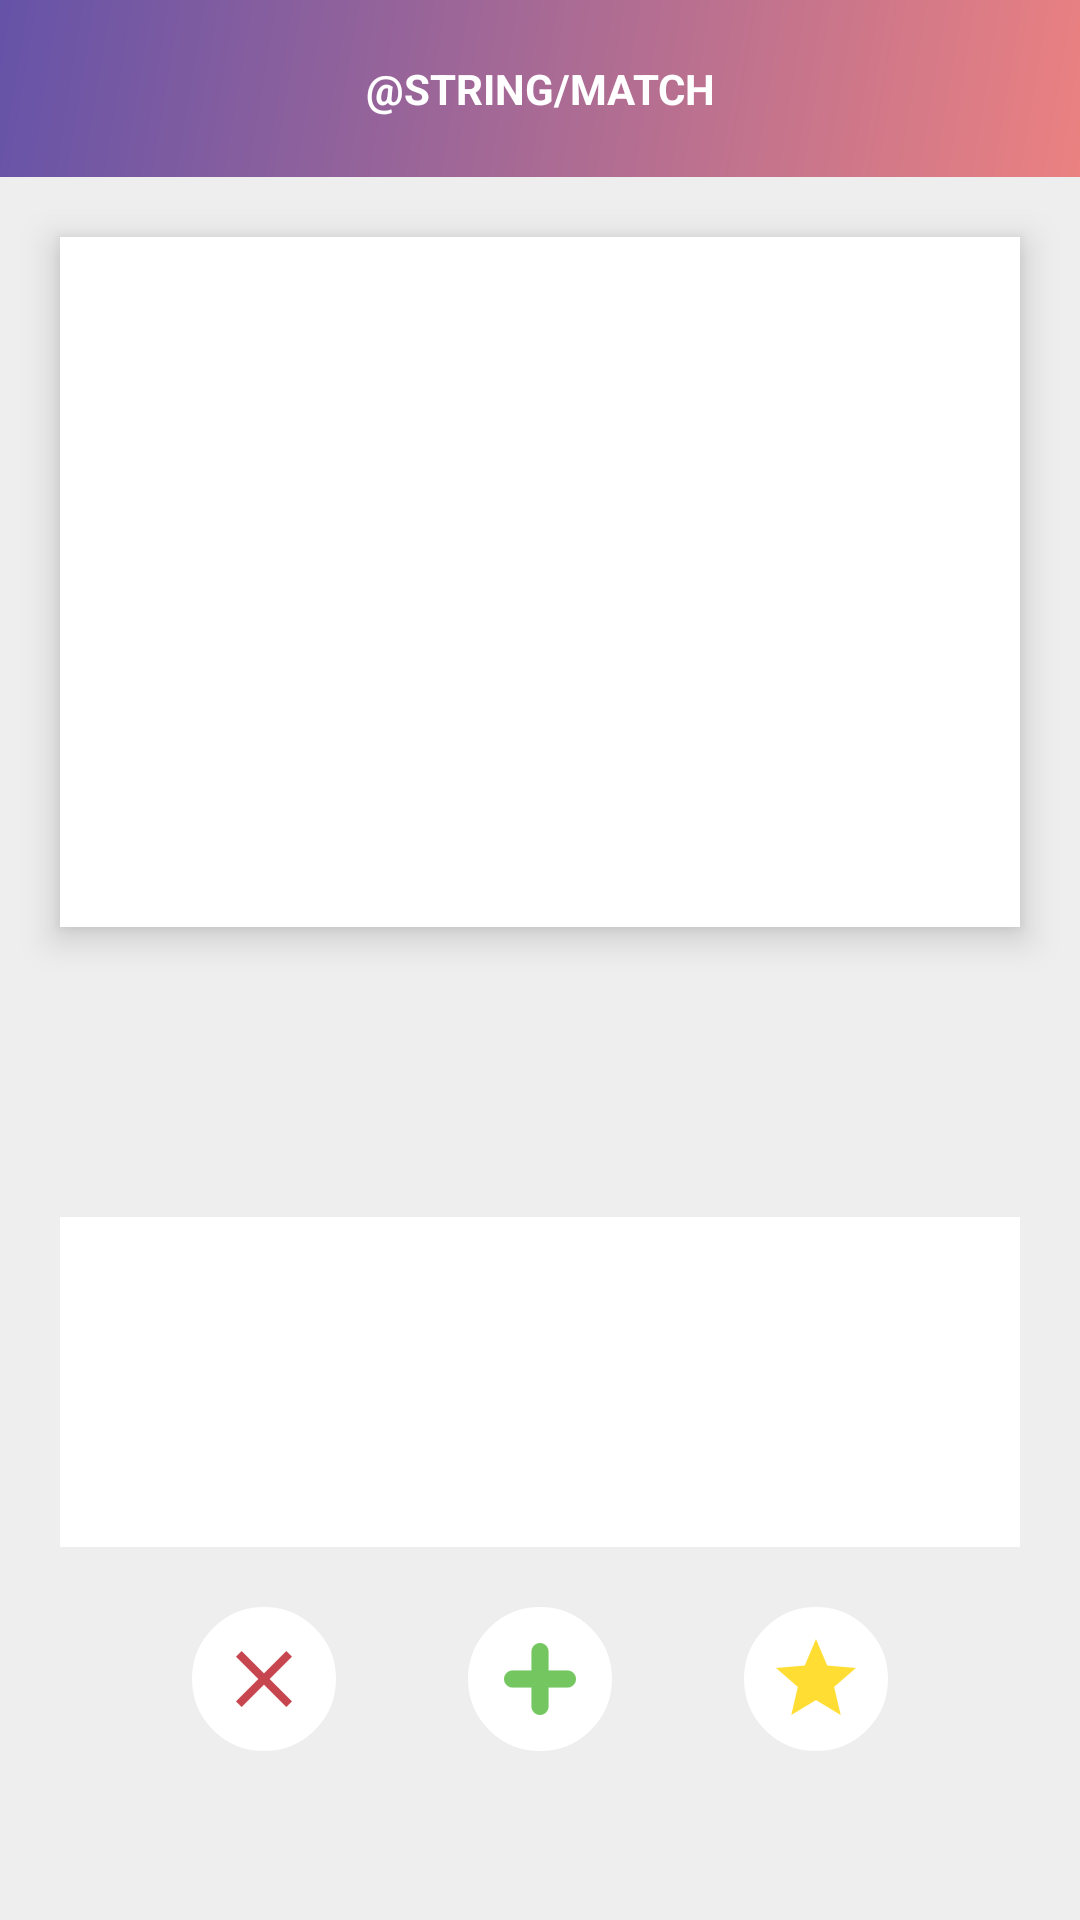

Locate icon controls on the screen. Image size 1080×1920, boxes as (x1, y1, x2, y2).
add: (468, 1607, 612, 1751)
favourite: (744, 1607, 888, 1751)
pass: (192, 1607, 336, 1751)
